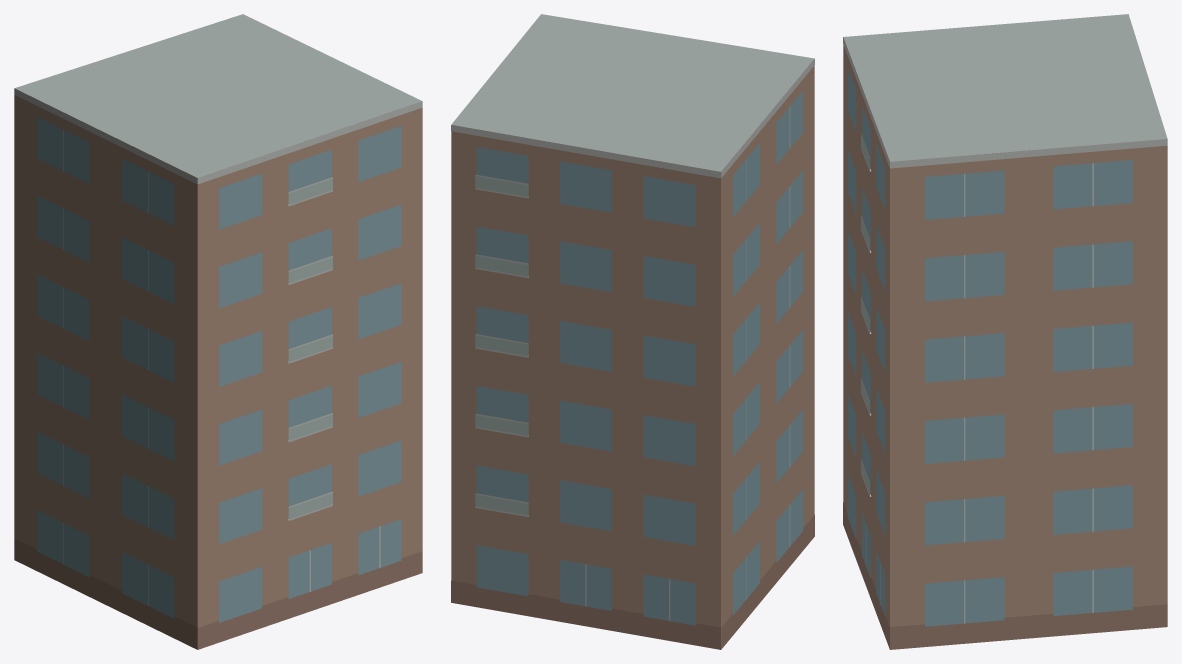
The model's file is survey-upis-33005411.glb.
3 renders of one model, left to right at view 1: azimuth 30°, elevation 25°; view 2: azimuth 150°, elevation 25°; view 3: azimuth 270°, elevation 25°, orthographic. The views are drawn at different scales.
Visible parts, largest first — view 1: survey-upis-33005411.tmp; view 2: survey-upis-33005411.tmp; view 3: survey-upis-33005411.tmp.
Part boxes in pixels (x1,y1,x2,y2): survey-upis-33005411.tmp: (14,14,422,649); survey-upis-33005411.tmp: (451,14,814,649); survey-upis-33005411.tmp: (843,14,1167,649).
Size of the model in its own units: 11.64 by 17.9 by 10.79.
